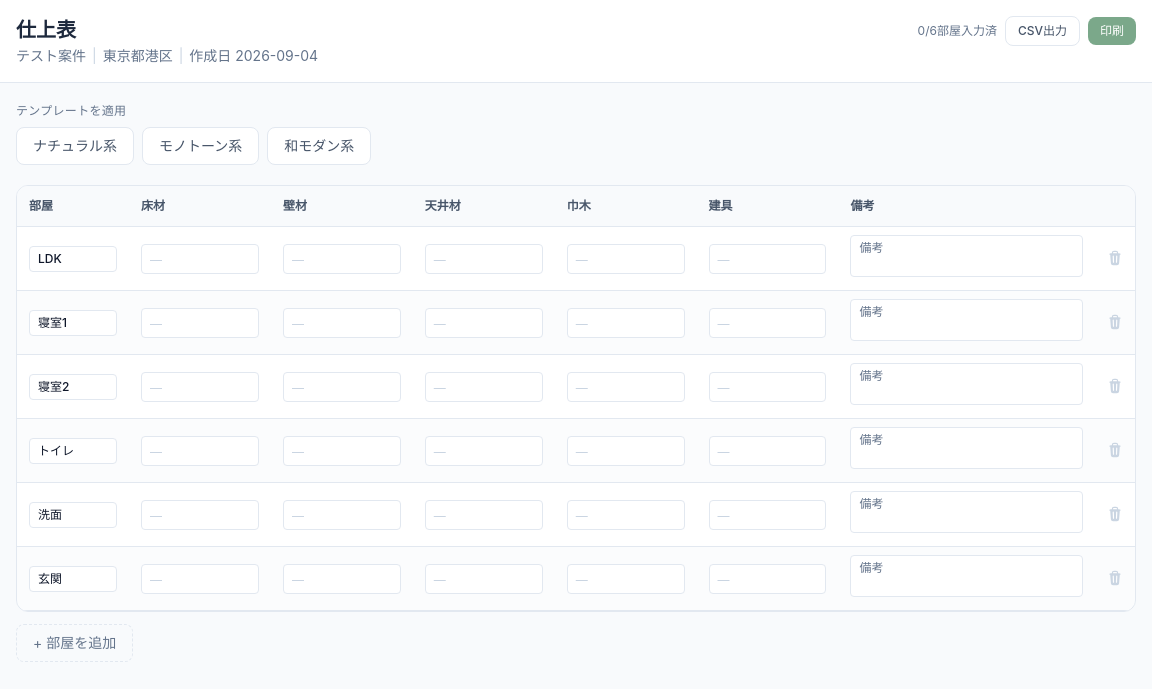
FinishingSchedulePage — 行追加/削除 › 行追加ボタンで行が1件増える
Click the button with test id "add-row-button".
click(75, 643)  # box [16,624,133,662]
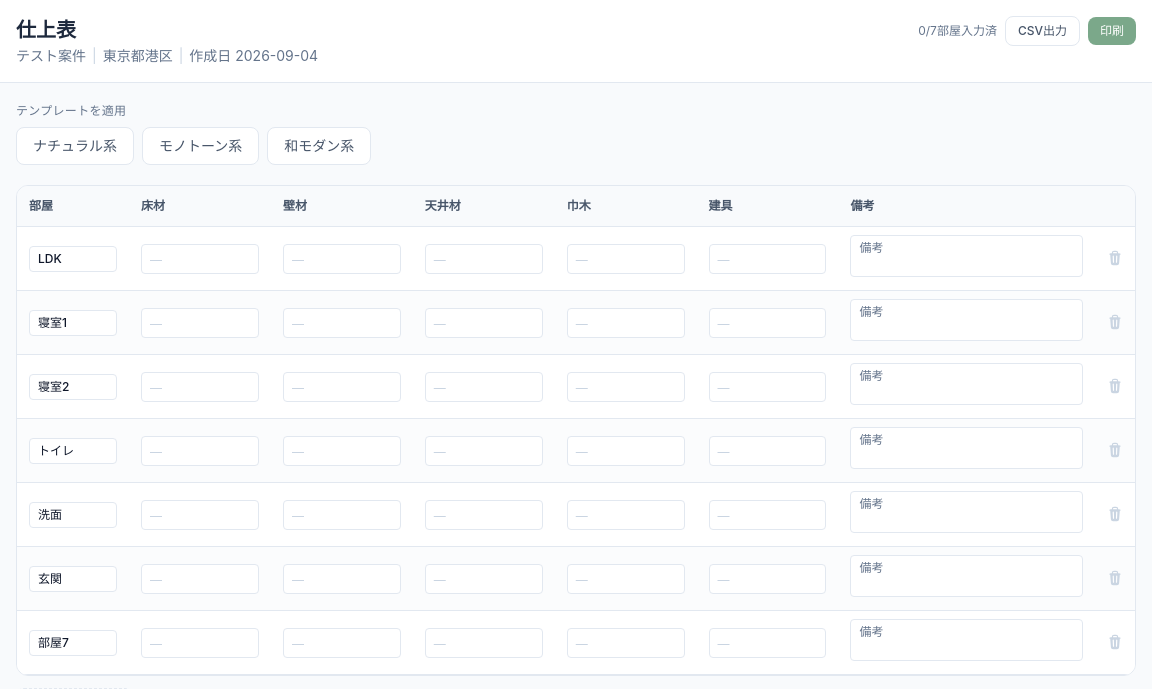
Result: the number of rows with test id "finishing-row" is 7
